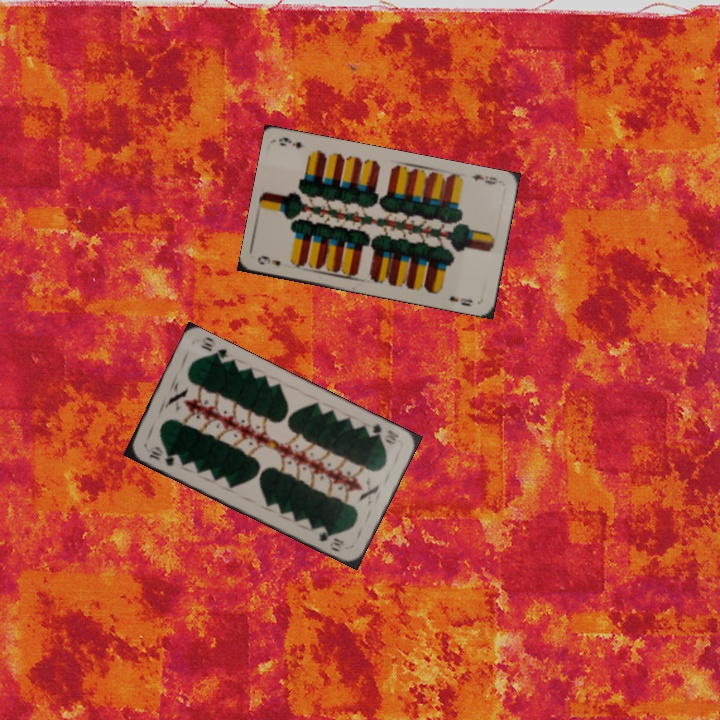E9: (467, 170, 500, 187), (254, 251, 283, 268)
G10: (362, 419, 401, 447), (142, 446, 177, 469)
